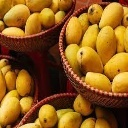mango: (77, 47, 103, 77), (99, 2, 124, 31), (3, 4, 31, 28), (71, 91, 96, 117), (0, 99, 20, 128), (65, 16, 82, 46), (15, 68, 32, 97), (38, 104, 57, 128), (39, 7, 55, 31)
